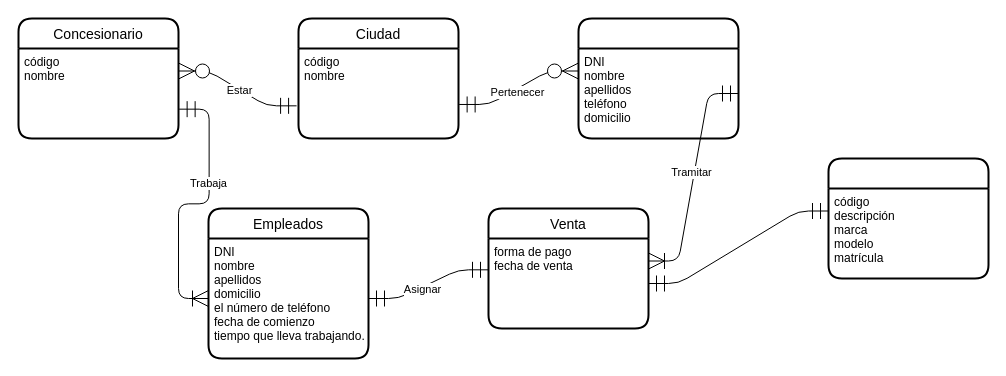
Some shapes in this 1006 by 376 pixel diagram are drawn without their labels. Each missing label, with the box of its shape:
Clientes: (577, 17, 739, 139)
Coche: (827, 157, 989, 279)
